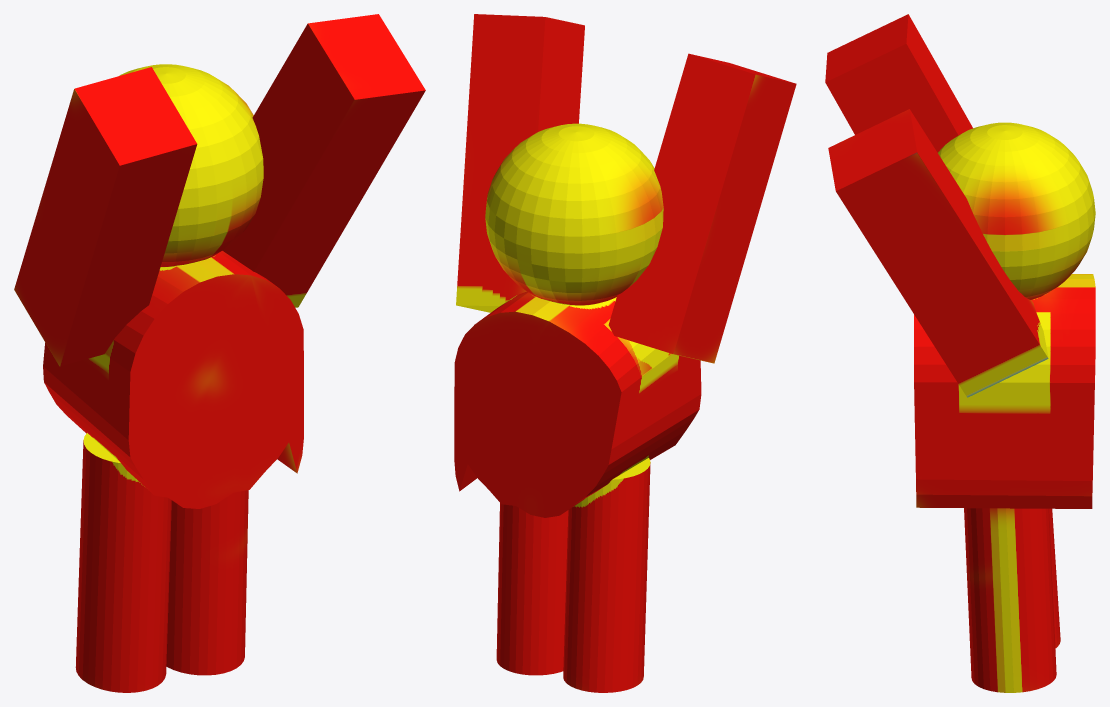
Rendered from Figurine170.obj.
The picture shows the model from 3 angles, left to right: view 1: azimuth 30°, elevation 25°; view 2: azimuth 150°, elevation 25°; view 3: azimuth 270°, elevation 25°; orthographic projection. The views are drawn at different scales.
Visible parts, largest first — view 1: Bone.005, Bone.007, Bone.004, Bone.014, Bone.010, Bone.012, Bone.002; view 2: Bone.005, Bone.007, Bone.010, Bone.004, Bone.014, Bone.012, Bone.002; view 3: Bone.004, Bone.002, Bone.010, Bone.012, Bone.006, Bone.007, Bone.014.
Boxes of the visible parts, x1,y1,x2,y2 form: Bone.005: [43, 262, 303, 508]; Bone.007: [14, 67, 197, 366]; Bone.004: [222, 14, 425, 307]; Bone.014: [75, 440, 171, 692]; Bone.010: [119, 64, 263, 267]; Bone.012: [166, 490, 248, 675]; Bone.002: [211, 251, 297, 473]; Bone.005: [454, 297, 701, 517]; Bone.007: [608, 53, 796, 363]; Bone.010: [485, 123, 663, 305]; Bone.004: [456, 14, 584, 306]; Bone.014: [563, 462, 650, 692]; Bone.012: [496, 503, 568, 675]; Bone.002: [460, 291, 535, 490]; Bone.004: [828, 109, 1048, 397]; Bone.002: [914, 287, 1095, 508]; Bone.010: [938, 122, 1095, 299]; Bone.012: [964, 508, 1056, 692]; Bone.006: [825, 43, 958, 152]; Bone.007: [825, 14, 972, 135]; Bone.014: [1049, 508, 1060, 648].
Bounding box in the file's own units: 3.52 × 7.18 × 2.98.
